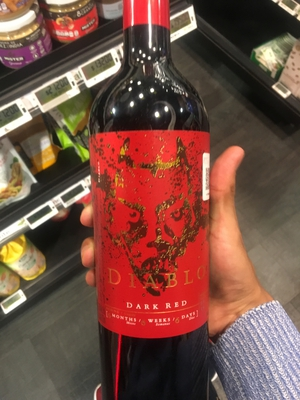diablo dark red: (81, 13, 220, 388)
